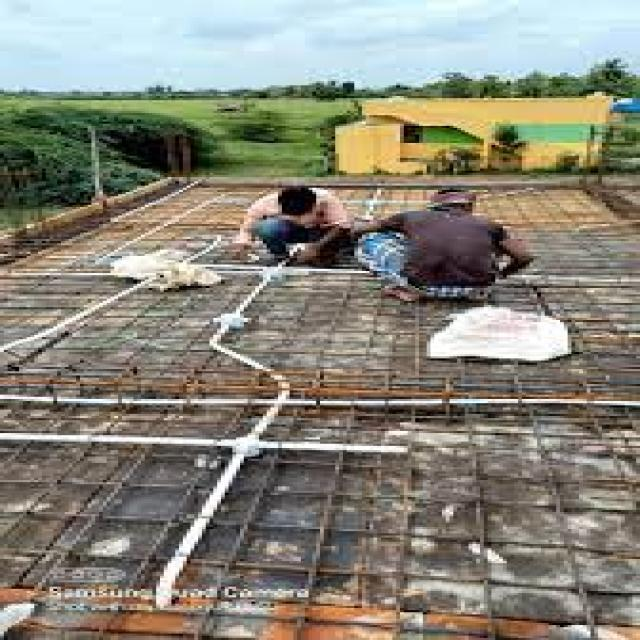Plumbing and Electrical: (0, 214, 567, 588)
